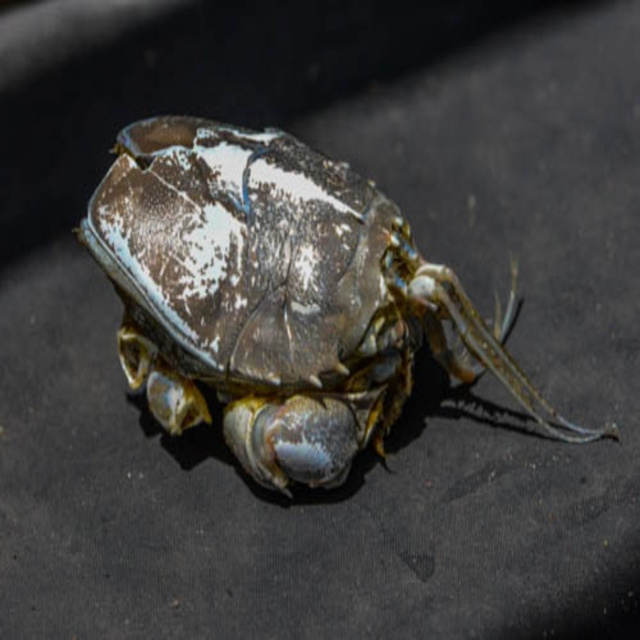Crab: (69, 111, 617, 514)
